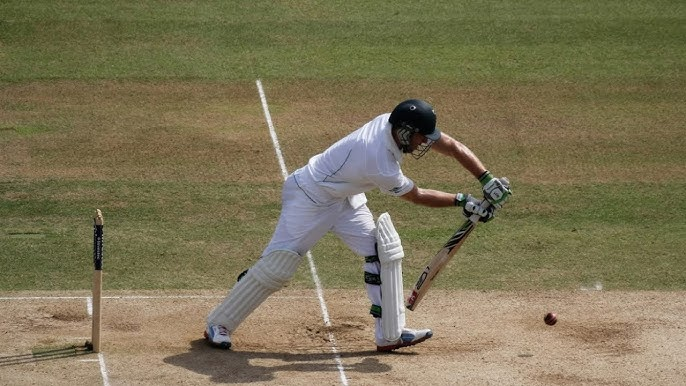Defence: (54, 32, 631, 382)
